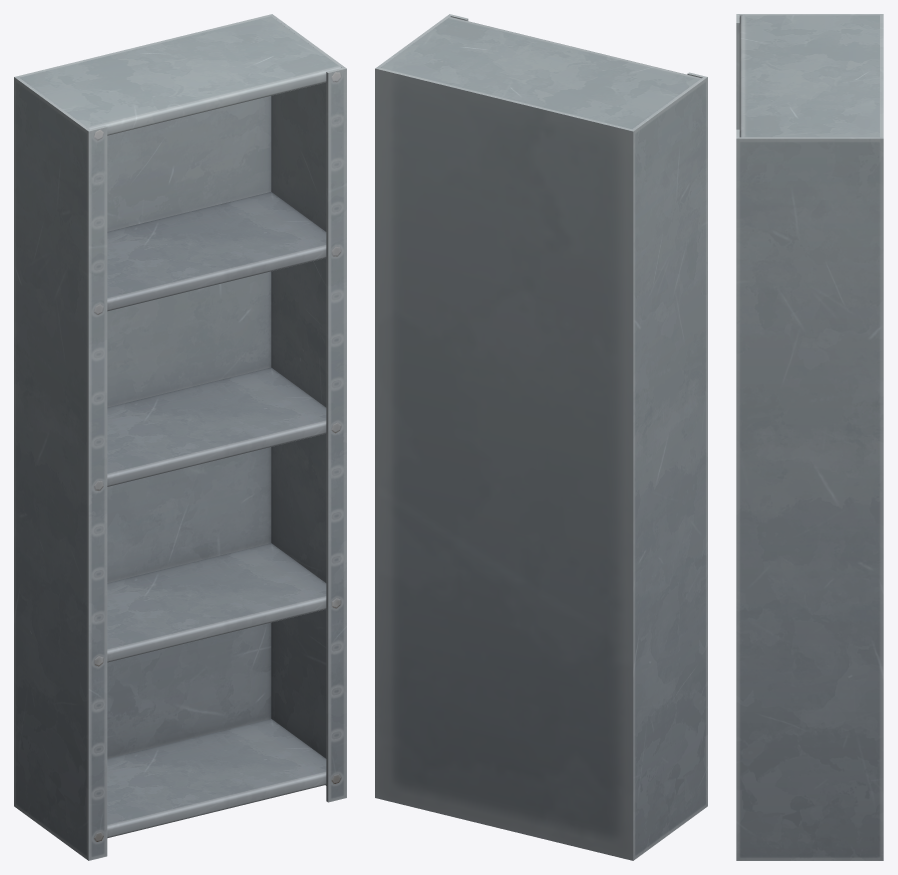
Rendered from BankMoneyShelves01_1.FBX.
3 views of the same model, side by side, from view 1: azimuth 30°, elevation 25°; view 2: azimuth 150°, elevation 25°; view 3: azimuth 270°, elevation 25° (orthographic).
Visible parts, largest first — view 1: BankMoneyShelves01_1; view 2: BankMoneyShelves01_1; view 3: BankMoneyShelves01_1.
Boxes of the visible parts, left/top/right/bottom form: BankMoneyShelves01_1: left=14, top=14, right=346, bottom=860; BankMoneyShelves01_1: left=375, top=14, right=707, bottom=860; BankMoneyShelves01_1: left=736, top=14, right=883, bottom=860.
Size of what is drawn, in the model's own units: 1 by 2.7 by 0.5.
